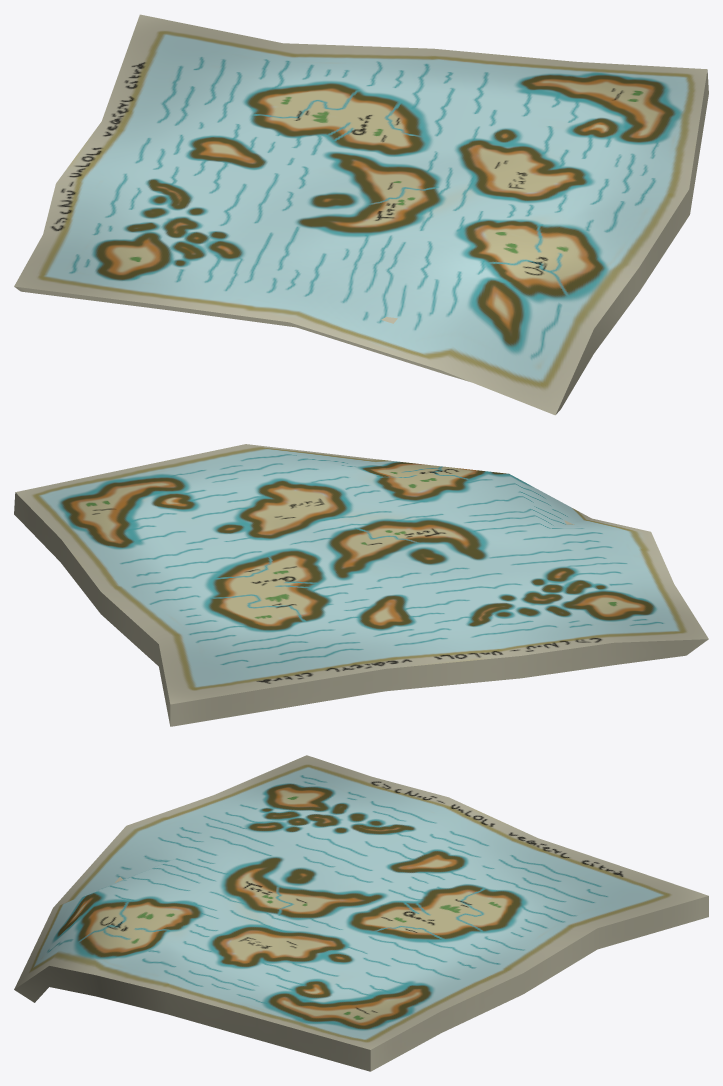
The model's file is mapOPEN_mesh.fbx.
3 views of the same model, one above another, from view 1: azimuth 30°, elevation 25°; view 2: azimuth 150°, elevation 25°; view 3: azimuth 270°, elevation 25° (orthographic). The views are drawn at different scales.
Visible parts, largest first — view 1: pCube60; view 2: pCube60; view 3: pCube60.
Part boxes in pixels (x1,y1,x2,y2): pCube60: [14, 14, 708, 415]; pCube60: [14, 444, 708, 726]; pCube60: [14, 755, 708, 1071].
Bounding box in the file's own units: 89.1 × 13.07 × 85.68.
